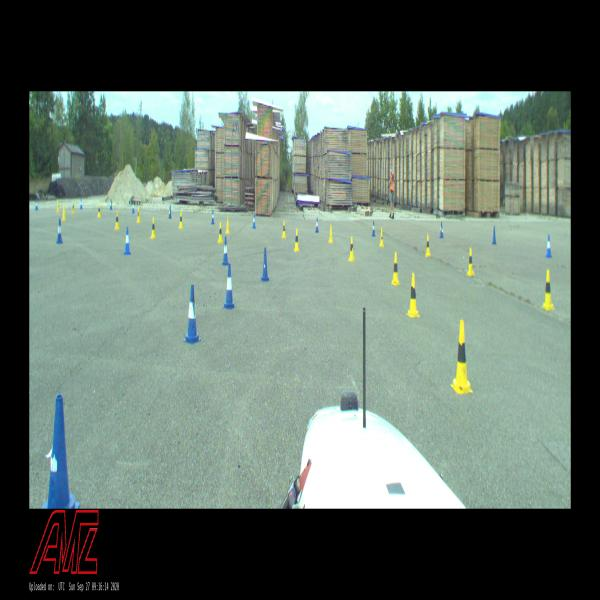blue_cone: (42, 396, 81, 509), (183, 285, 201, 344), (222, 264, 236, 309), (260, 249, 270, 282), (123, 227, 131, 256), (222, 235, 229, 265), (56, 218, 63, 243), (546, 234, 552, 258), (439, 220, 444, 238), (492, 226, 497, 244), (372, 220, 376, 238), (252, 212, 256, 230), (210, 210, 215, 224), (315, 216, 319, 233), (109, 198, 113, 212), (168, 205, 172, 219), (79, 197, 83, 210), (132, 199, 135, 214), (35, 197, 38, 211)
yellow_cone: (451, 320, 473, 395), (407, 273, 420, 317), (542, 270, 555, 312), (391, 252, 400, 286), (467, 245, 474, 276), (348, 236, 355, 262), (293, 227, 300, 252), (425, 234, 431, 256), (150, 218, 156, 240), (114, 210, 120, 230), (328, 225, 334, 244), (218, 222, 223, 244), (379, 227, 384, 246), (179, 212, 184, 230), (282, 219, 286, 239), (62, 204, 66, 221), (226, 217, 230, 234), (97, 202, 101, 218), (136, 207, 140, 223), (72, 200, 75, 213), (57, 200, 60, 212)
